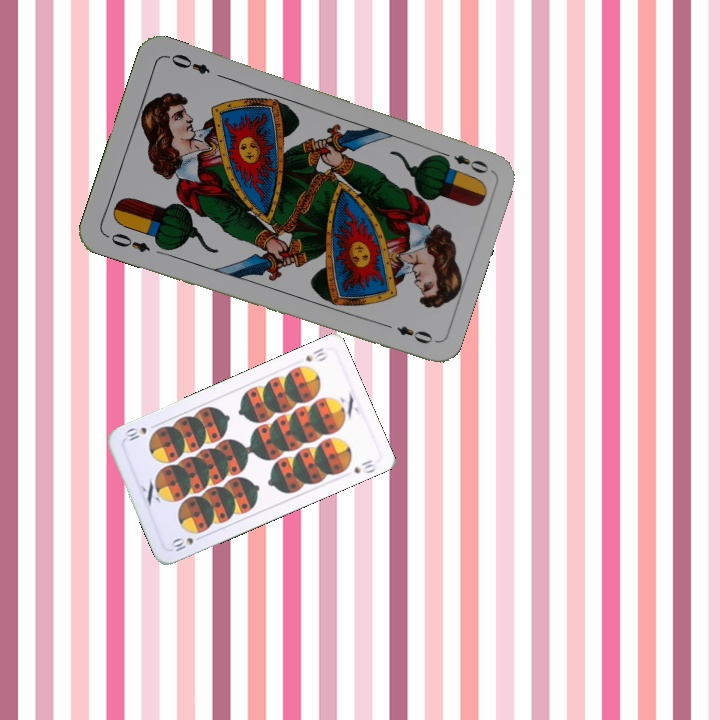EO: (435, 147, 492, 176), (102, 229, 153, 255)
S10: (167, 531, 206, 554), (301, 344, 330, 365)
